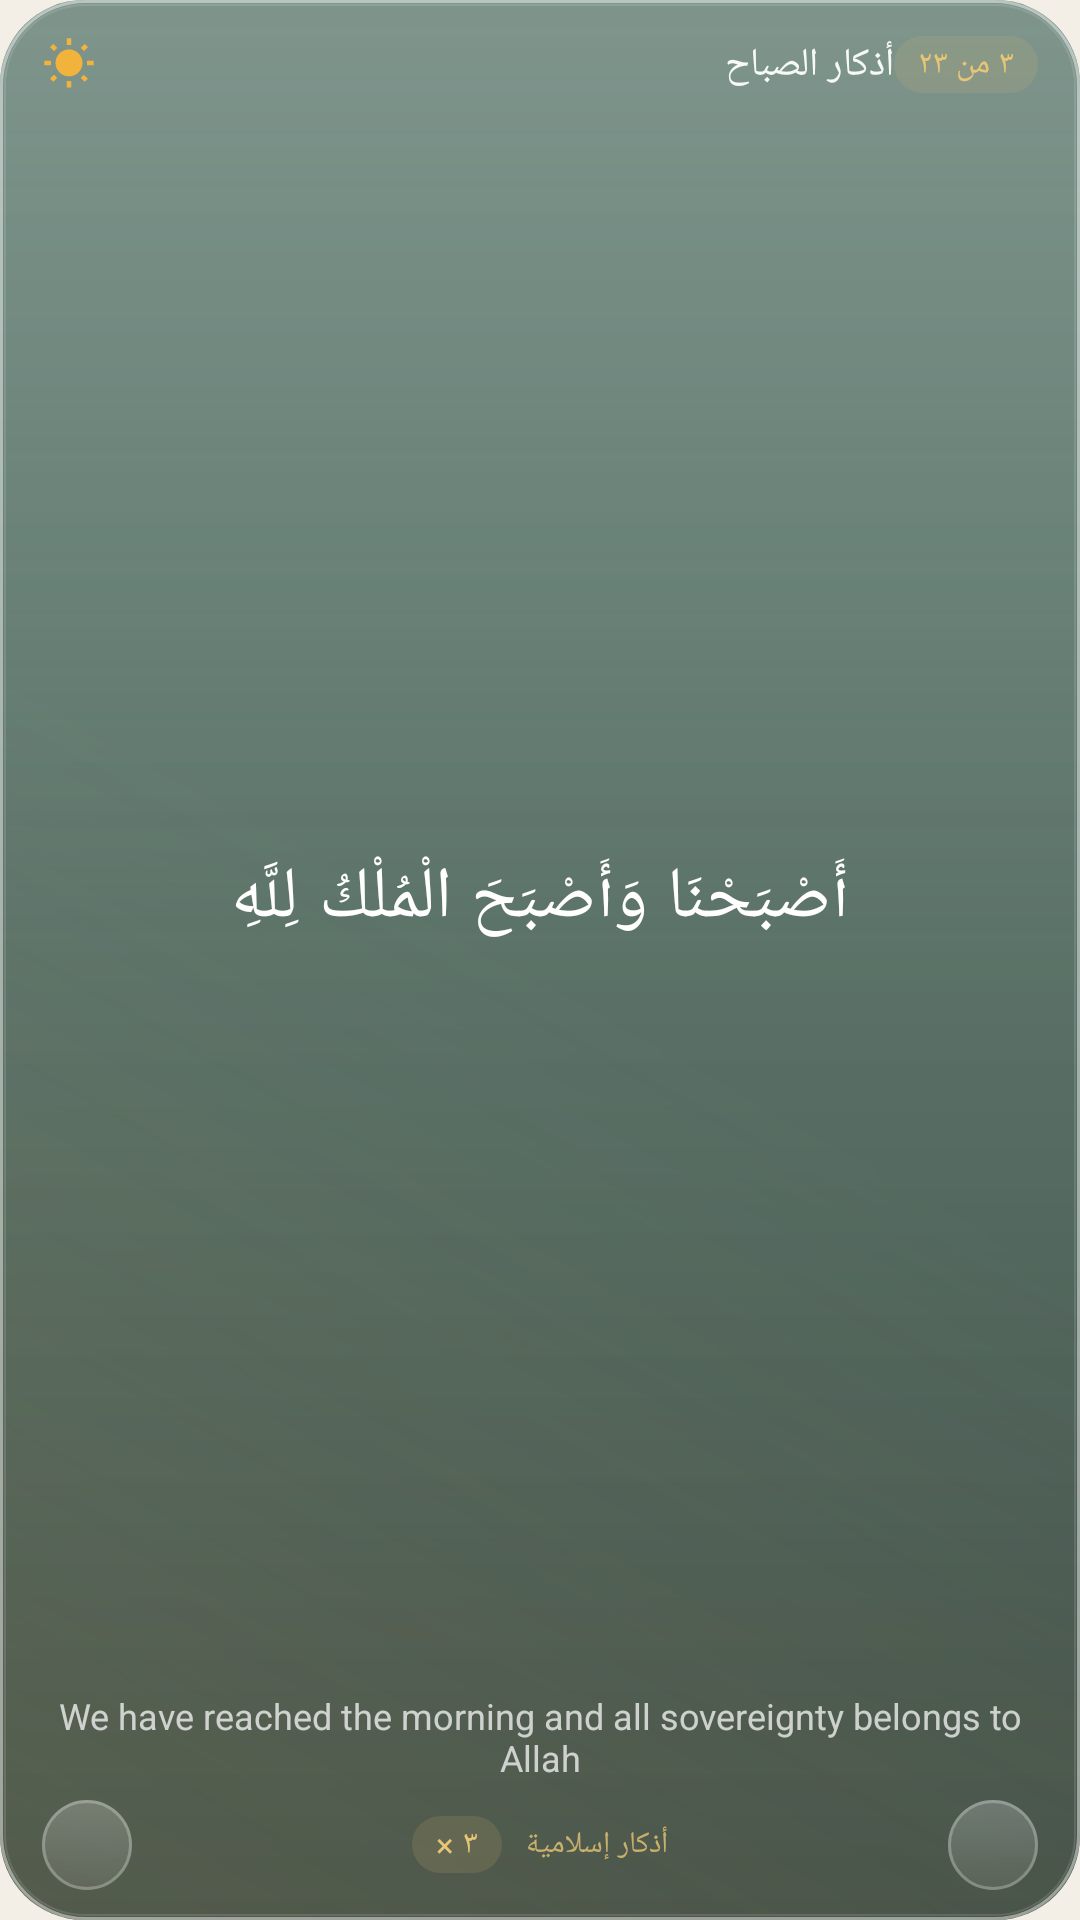

Where icons sit on this 1080 x 1920 app screen, as (x1,y1,x2,y2):
sun: (44,38,94,88)
